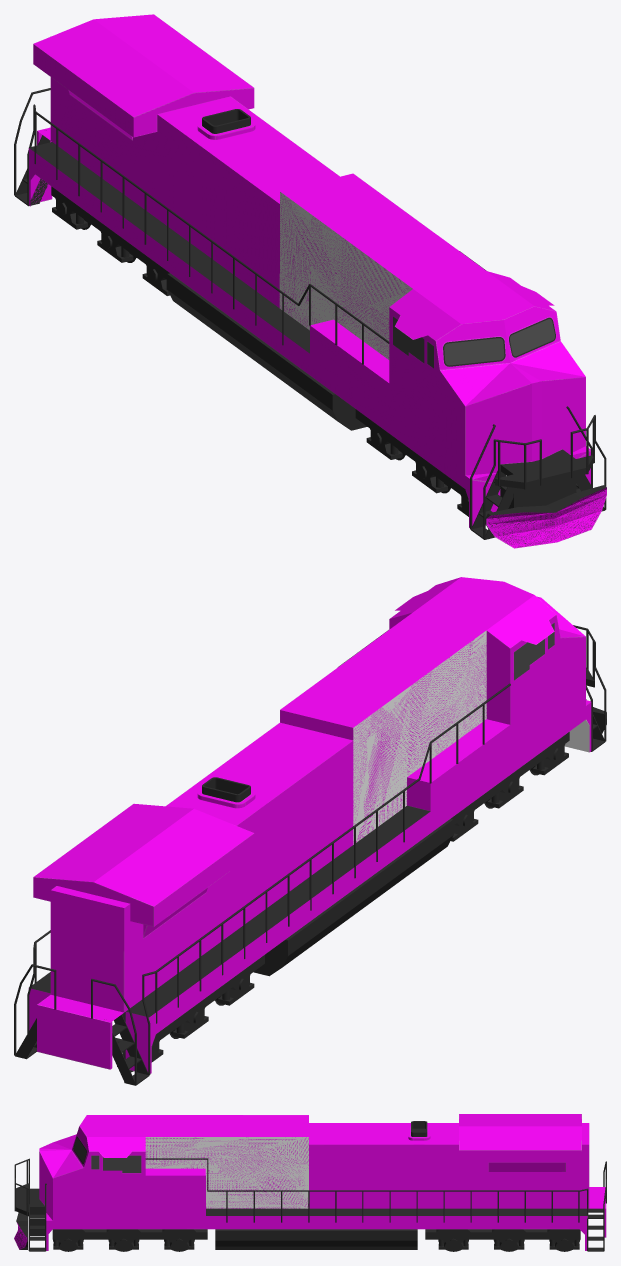
Rendered from dash9-v5-textured.dae.
The picture shows the model from 3 angles, top to bottom: view 1: azimuth 30°, elevation 25°; view 2: azimuth 150°, elevation 25°; view 3: azimuth 270°, elevation 25°; orthographic projection. The views are drawn at different scales.
Visible parts, largest first — view 1: half_body (×6), body (×3), group_5, bogie_mechanism (×2), box_right, group_6 (×2), group_2 (×2), stairs, group_4; view 2: half_body (×4), body, group_5, box_right, bogie_mechanism (×2), stairs, group_4; view 3: half_body (×5), body (×2), bogie_mechanism (×2), group_5, box_left, group_4, group_2 (×2), stairs (×2), group_0.
Boxes of the visible parts, x1,y1,x2,y2 form: half_body (×6): (28,14,590,527); body (×3): (279,192,585,467); group_5: (167,273,367,430); bogie_mechanism (×2): (51,186,468,516); box_right: (310,319,389,411); group_6 (×2): (486,487,606,548); group_2 (×2): (495,449,593,488); stairs: (471,464,513,539); group_4: (27,104,256,273); half_body (×4): (28,577,591,1073); body: (353,630,486,844); group_5: (253,818,453,976); box_right: (407,719,510,811); bogie_mechanism (×2): (151,732,569,1062); stairs: (104,1014,149,1085); group_4: (142,809,377,1075); half_body (×5): (30,1114,606,1250); body (×2): (39,1137,308,1215); bogie_mechanism (×2): (52,1229,580,1249); group_5: (215,1229,417,1249); box_left: (145,1168,205,1215); group_4: (309,1188,588,1251); group_2 (×2): (15,1183,44,1216); stairs (×2): (29,1214,603,1251); group_0: (145,1158,308,1191).
Size of the model in its own units: 144 by 854 by 187.
Materials: 4 (1 with a texture image).
